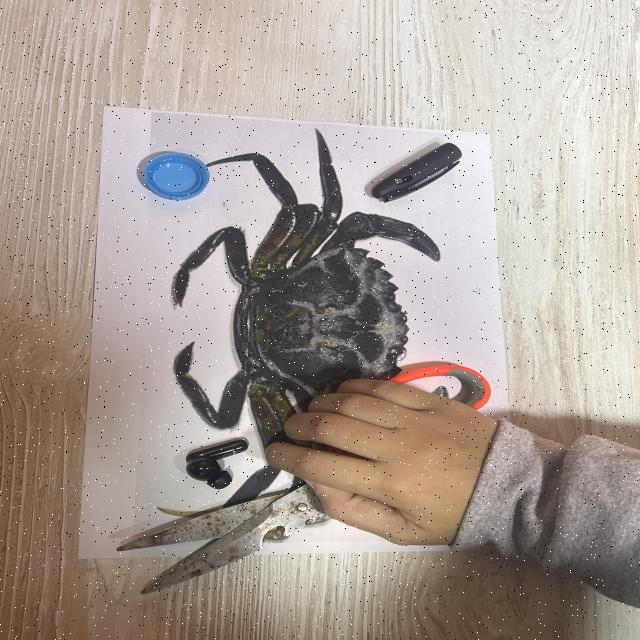European_Green_Crab: (154, 123, 467, 549)
